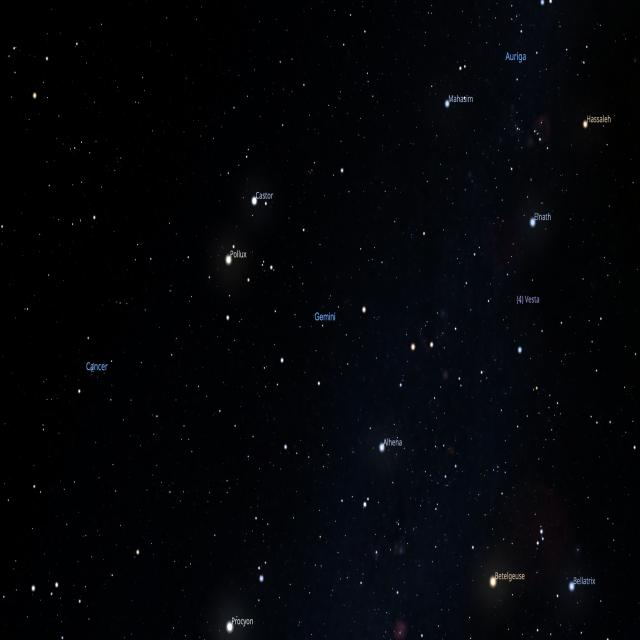Gemini: (222, 164, 460, 512)
